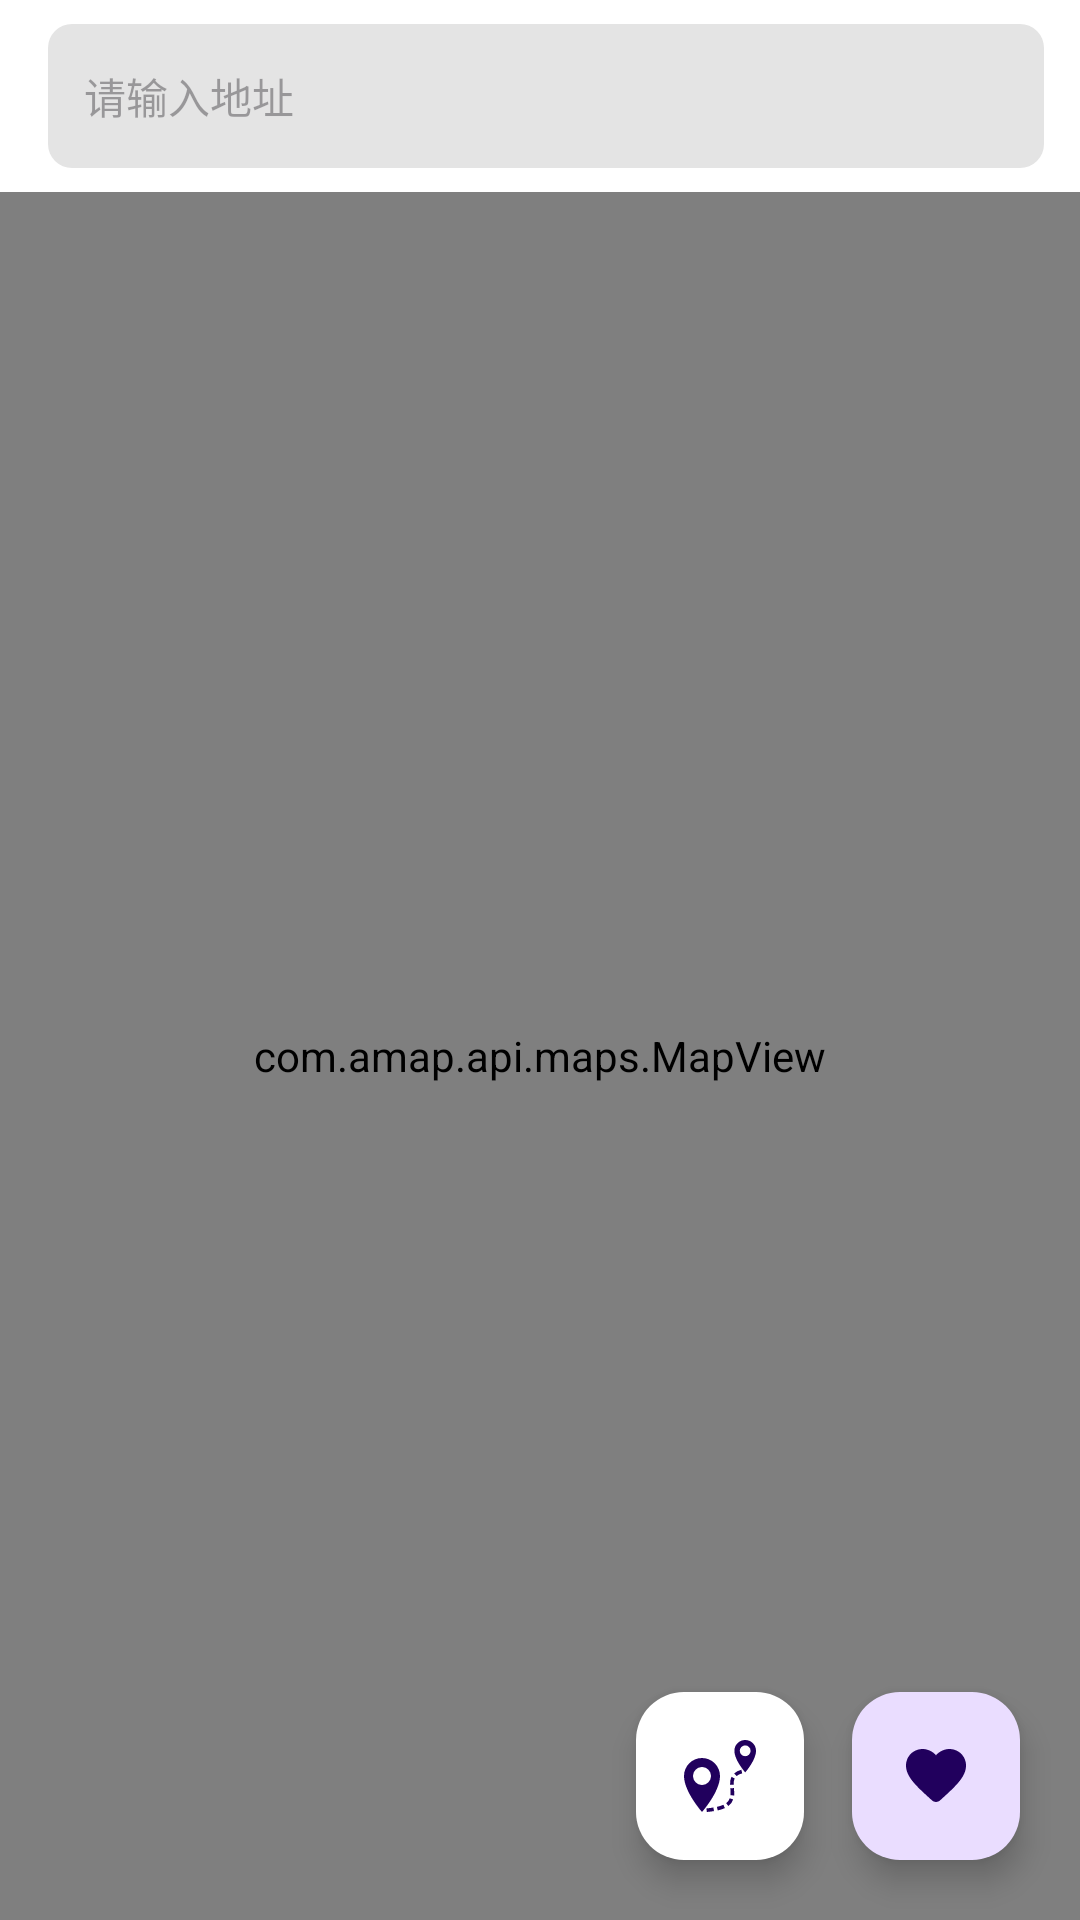

Locate icon controls on the screen. Image size 1080w x 1920h, boxes as BBox(x1, y1, x2, y2).
favorite: BBox(852, 1692, 1020, 1860)
route: BBox(636, 1692, 804, 1860)
